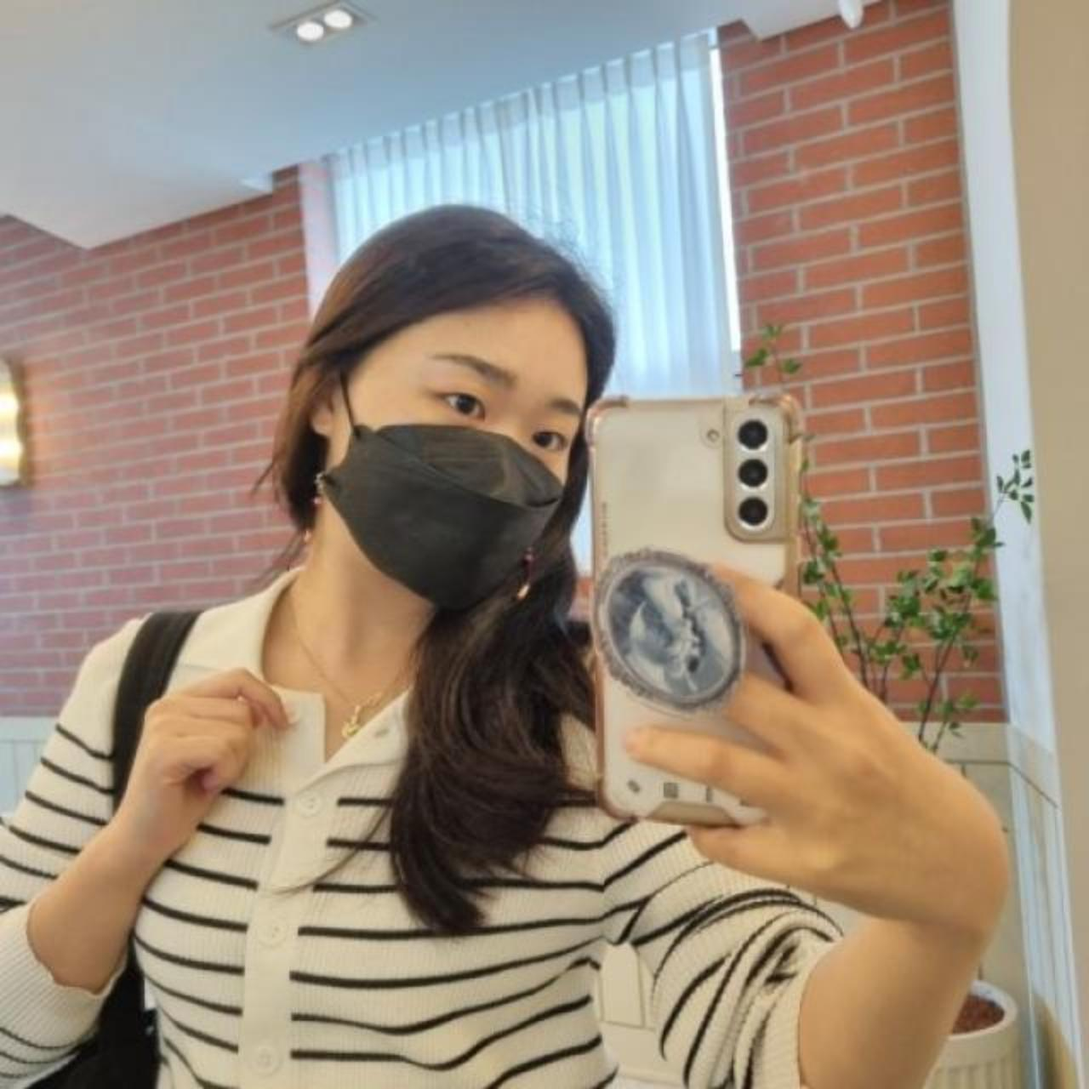phone: (587, 381, 813, 844)
